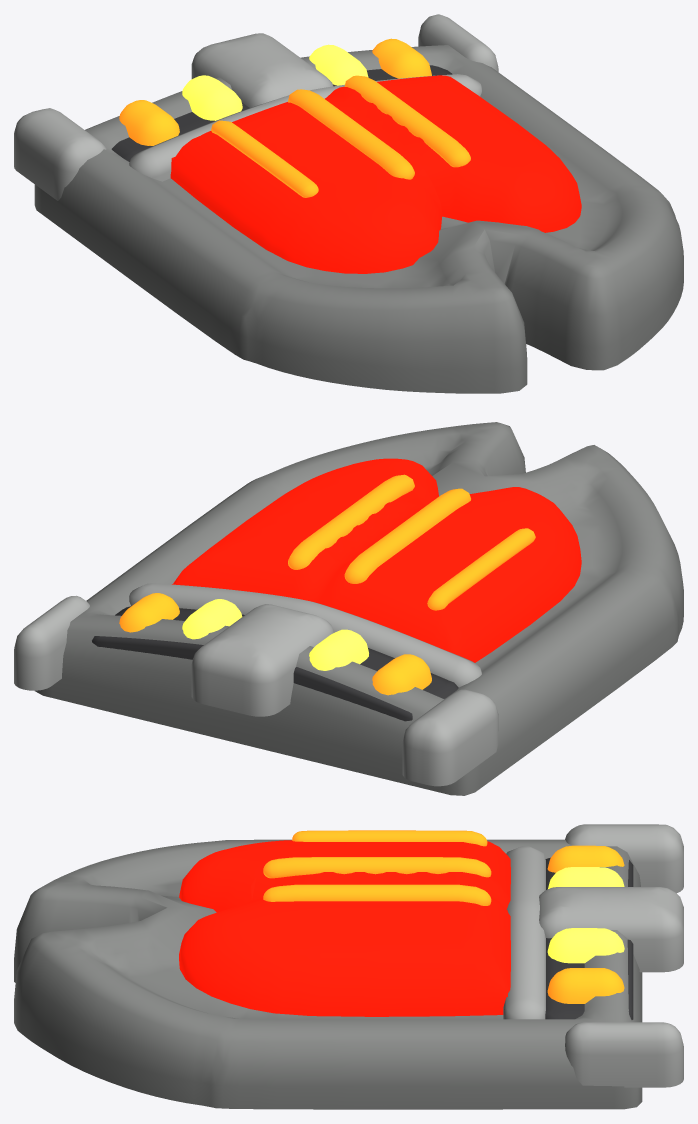
Rendered from store_shield_155.glb.
3 renders of one model, top to bottom at view 1: azimuth 30°, elevation 25°; view 2: azimuth 150°, elevation 25°; view 3: azimuth 270°, elevation 25°, orthographic.
Parts seen in each view (by area): view 1: shield_steel, shield_red_core, shield_steel_light, shield_red_rib, shield_lamp_orange, shield_lamp_yellow, shield_steel_dark; view 2: shield_steel, shield_red_core, shield_steel_light, shield_red_rib, shield_steel_dark, shield_lamp_orange, shield_lamp_yellow; view 3: shield_steel, shield_red_core, shield_steel_light, shield_red_rib, shield_lamp_orange, shield_lamp_yellow, shield_steel_dark.
Boxes of the visible parts, x1,y1,x2,y2 form: shield_steel: [34, 45, 683, 393]; shield_red_core: [170, 75, 581, 273]; shield_steel_light: [14, 14, 498, 200]; shield_red_rib: [211, 75, 470, 197]; shield_lamp_orange: [119, 38, 431, 145]; shield_lamp_yellow: [182, 44, 368, 120]; shield_steel_dark: [111, 65, 452, 161]; shield_steel: [35, 422, 683, 795]; shield_red_core: [172, 458, 581, 662]; shield_steel_light: [14, 583, 498, 786]; shield_red_rib: [288, 474, 535, 610]; shield_steel_dark: [92, 606, 458, 721]; shield_lamp_orange: [119, 593, 431, 695]; shield_lamp_yellow: [182, 599, 368, 670]; shield_steel: [14, 839, 642, 1109]; shield_red_core: [179, 840, 510, 1016]; shield_steel_light: [503, 824, 683, 1087]; shield_red_rib: [263, 830, 491, 905]; shield_lamp_orange: [547, 845, 624, 1003]; shield_lamp_yellow: [547, 867, 624, 963]; shield_steel_dark: [545, 857, 633, 1019].
Bounding box in the file's own units: 14.04 × 3.99 × 18.55.
